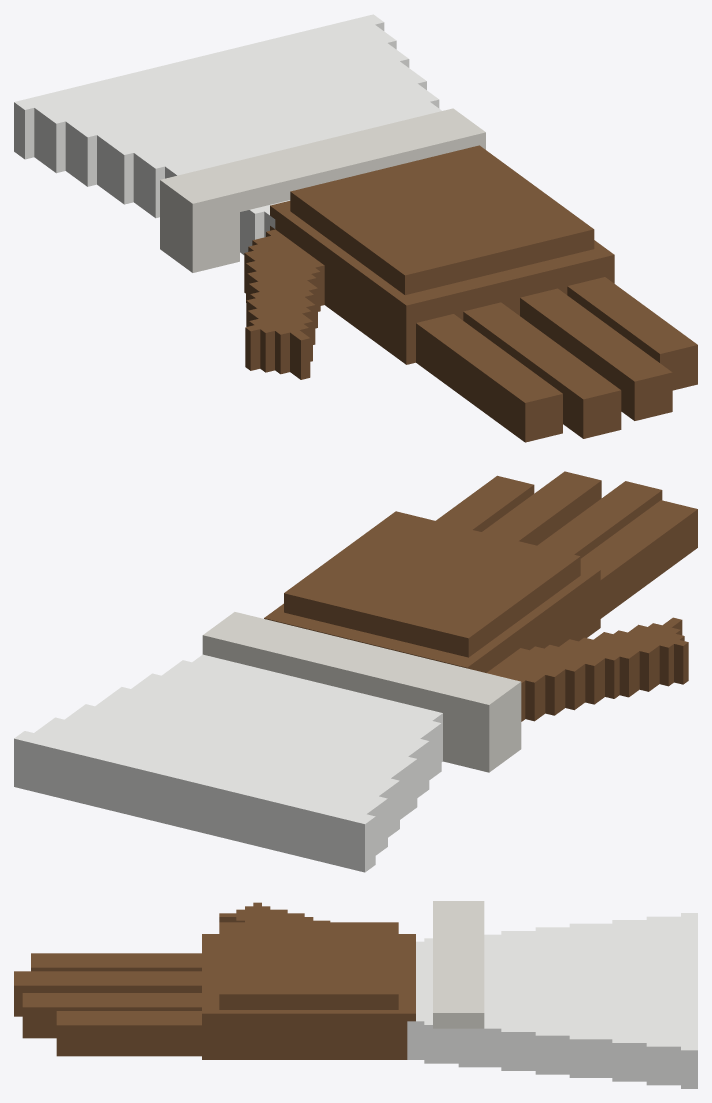
The model's file is gauntlet_fencing_l.glb.
3 views of the same model, one above another, from view 1: azimuth 30°, elevation 25°; view 2: azimuth 150°, elevation 25°; view 3: azimuth 270°, elevation 25° (orthographic). The views are drawn at different scales.
Parts seen in each view (by area): view 1: gauntlet_fencing_l:compound; view 2: gauntlet_fencing_l:compound; view 3: gauntlet_fencing_l:compound.
Part boxes in pixels (x1=…): gauntlet_fencing_l:compound: x1=14, y1=14, x2=697, y2=442; gauntlet_fencing_l:compound: x1=14, y1=471, x2=697, y2=872; gauntlet_fencing_l:compound: x1=14, y1=901, x2=697, y2=1088.
Bounding box in the file's own units: 0.172 × 0.032 × 0.32.
